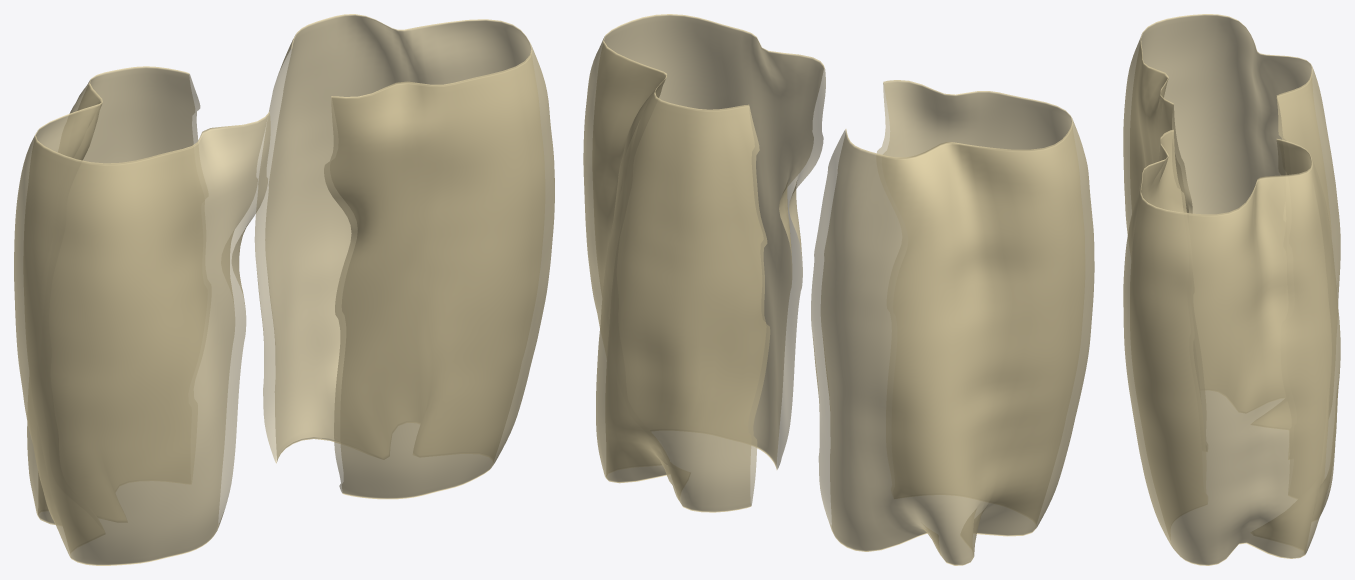
File: thigh_fat.glb
3 renders of one model, left to right at view 1: azimuth 30°, elevation 25°; view 2: azimuth 150°, elevation 25°; view 3: azimuth 270°, elevation 25°, orthographic. The views are drawn at different scales.
Parts seen in each view (by area): view 1: Thigh subcutaneous fat.l, Thigh subcutaneous fat.r; view 2: Thigh subcutaneous fat.r, Thigh subcutaneous fat.l; view 3: Thigh subcutaneous fat.l, Thigh subcutaneous fat.r.
Boxes of the visible parts, x1,y1,x2,y2 form: Thigh subcutaneous fat.l: (254,14,554,499); Thigh subcutaneous fat.r: (14,66,270,565); Thigh subcutaneous fat.r: (811,80,1094,565); Thigh subcutaneous fat.l: (583,14,825,512); Thigh subcutaneous fat.l: (1123,129,1340,565); Thigh subcutaneous fat.r: (1123,14,1340,305).
Size of the model in its own units: 0.3273 by 0.254 by 0.1372.
